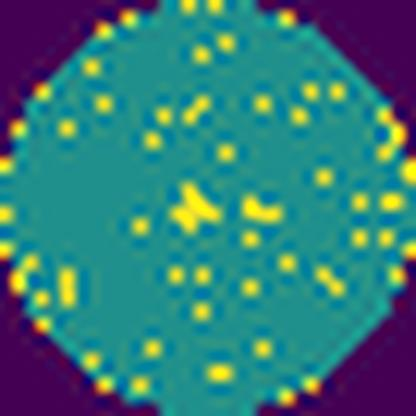Center: (170, 178, 225, 242)
